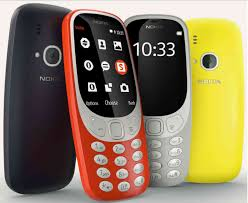nokia: (60, 7, 150, 201)
